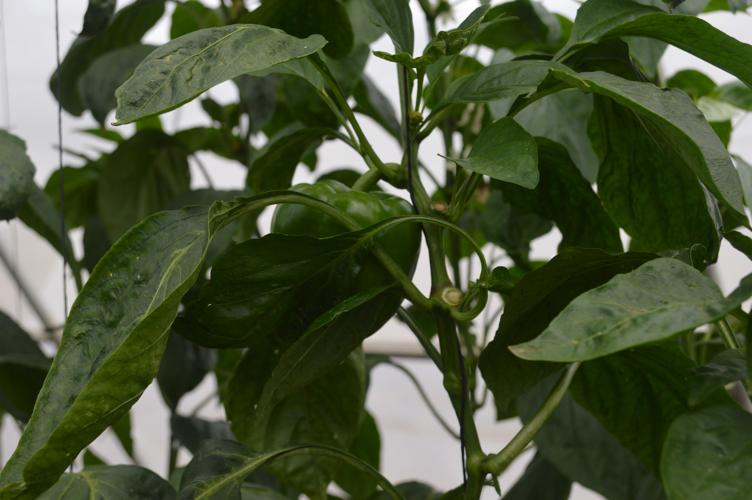BellPepper: (269, 179, 420, 333)
